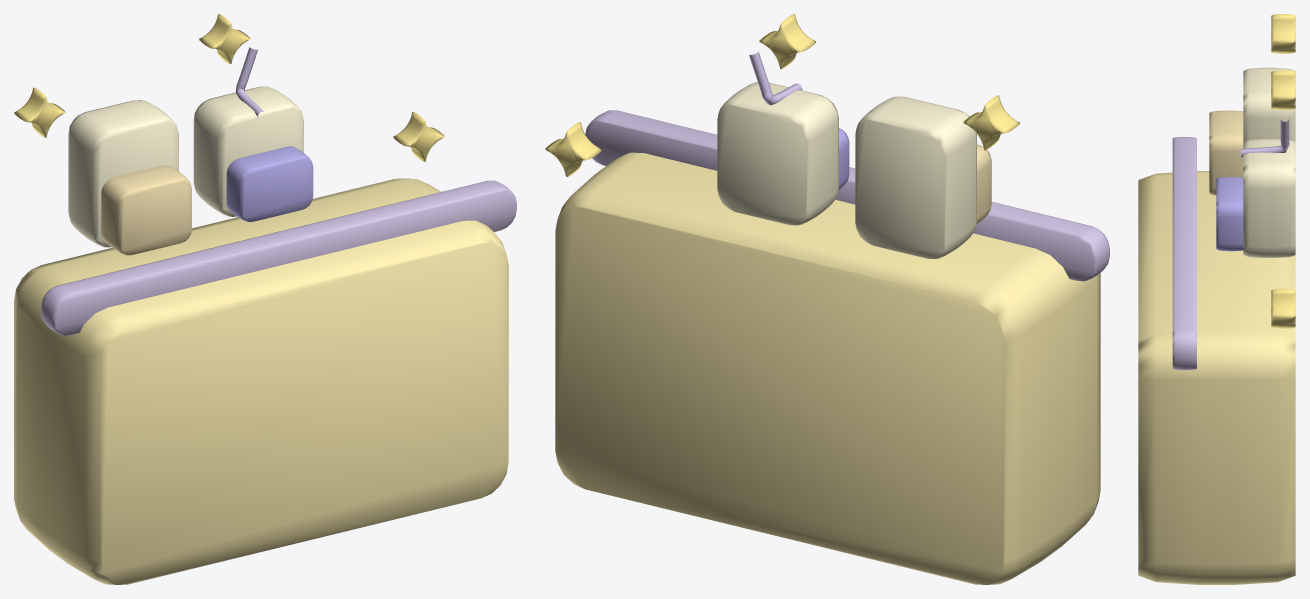
Rendered from decor_2_star.glb.
3 views of the same model, side by side, from view 1: azimuth 30°, elevation 25°; view 2: azimuth 150°, elevation 25°; view 3: azimuth 270°, elevation 25° (orthographic). The views are drawn at different scales.
Parts seen in each view (by area): view 1: decor_2_star; view 2: decor_2_star; view 3: decor_2_star.
Part boxes in pixels (box(x1,y1,x2,y2)): decor_2_star: box(14, 14, 516, 584); decor_2_star: box(545, 14, 1109, 584); decor_2_star: box(1138, 14, 1295, 584).
Size of the model in its own units: 17.1 by 16.68 by 5.51.
